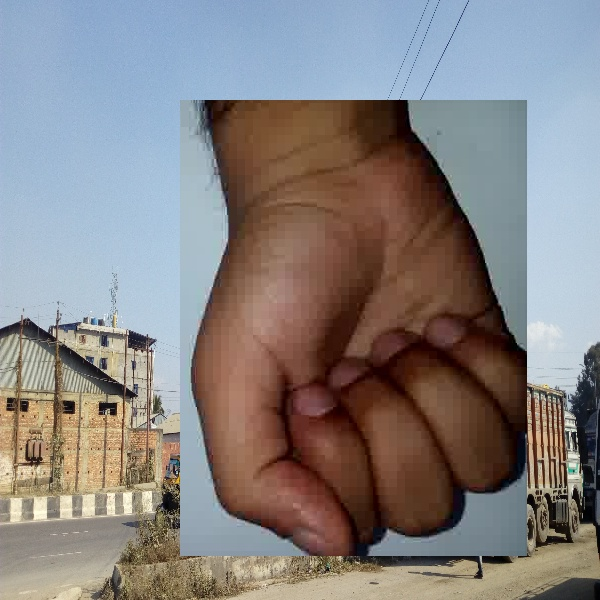A: (180, 100, 527, 556)
